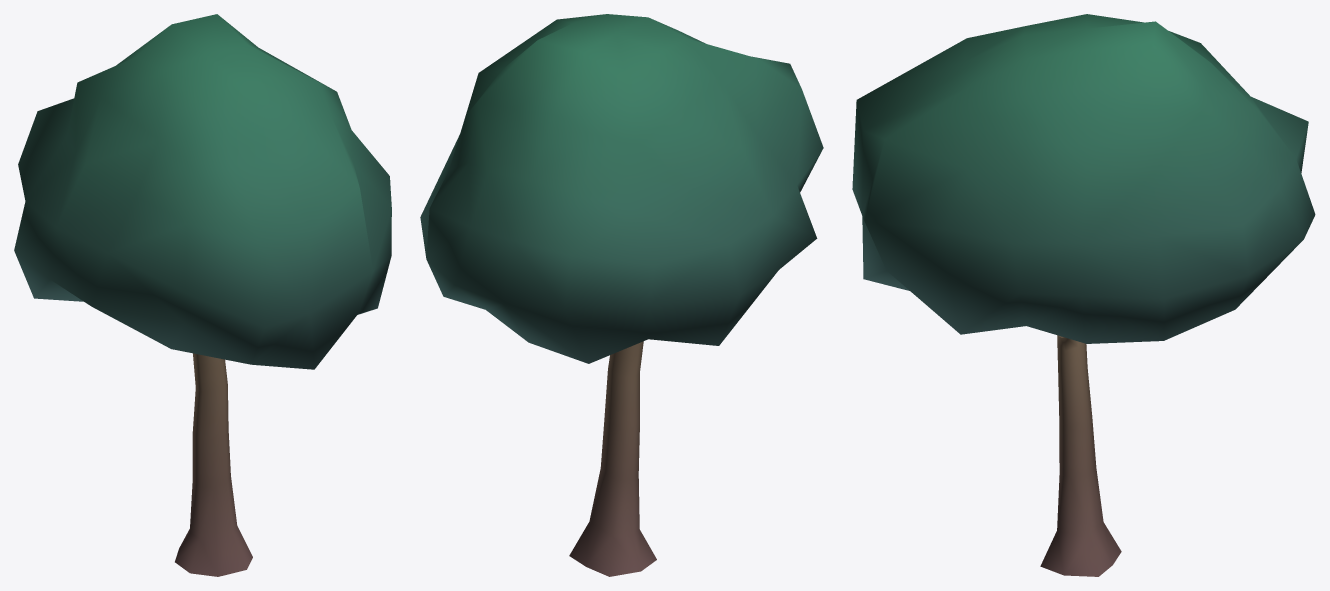
Rendered from Tree_B.fbx.
3 renders of one model, left to right at view 1: azimuth 30°, elevation 25°; view 2: azimuth 150°, elevation 25°; view 3: azimuth 270°, elevation 25°, orthographic. The views are drawn at different scales.
Visible parts, largest first — view 1: MDL_Tree_B; view 2: MDL_Tree_B; view 3: MDL_Tree_B.
Part boxes in pixels (x1=…): MDL_Tree_B: x1=14, y1=14, x2=391, y2=576; MDL_Tree_B: x1=420, y1=14, x2=823, y2=576; MDL_Tree_B: x1=852, y1=14, x2=1315, y2=576.
Bounding box in the file's own units: 1.94 × 3.13 × 2.43.
